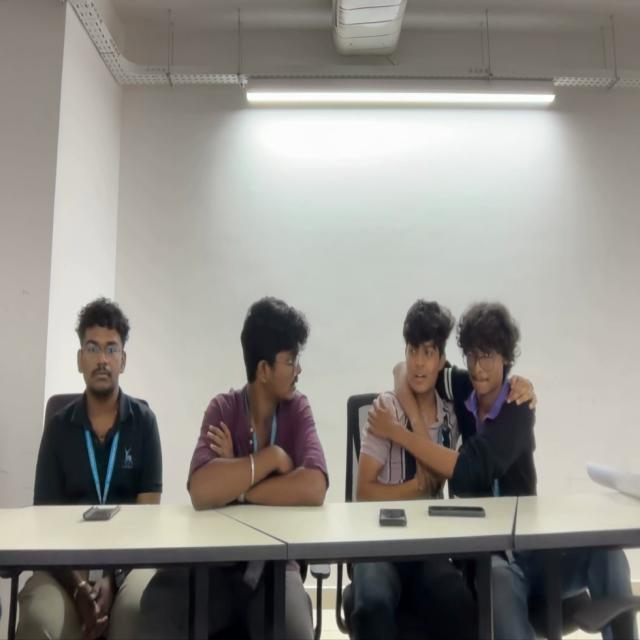Isolated: (186, 286, 322, 500), (32, 298, 162, 502)
socializing: (357, 289, 537, 496)
